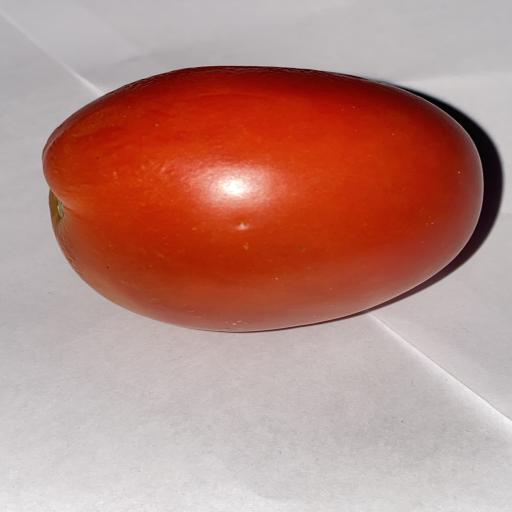ripe: (43, 67, 483, 333)
